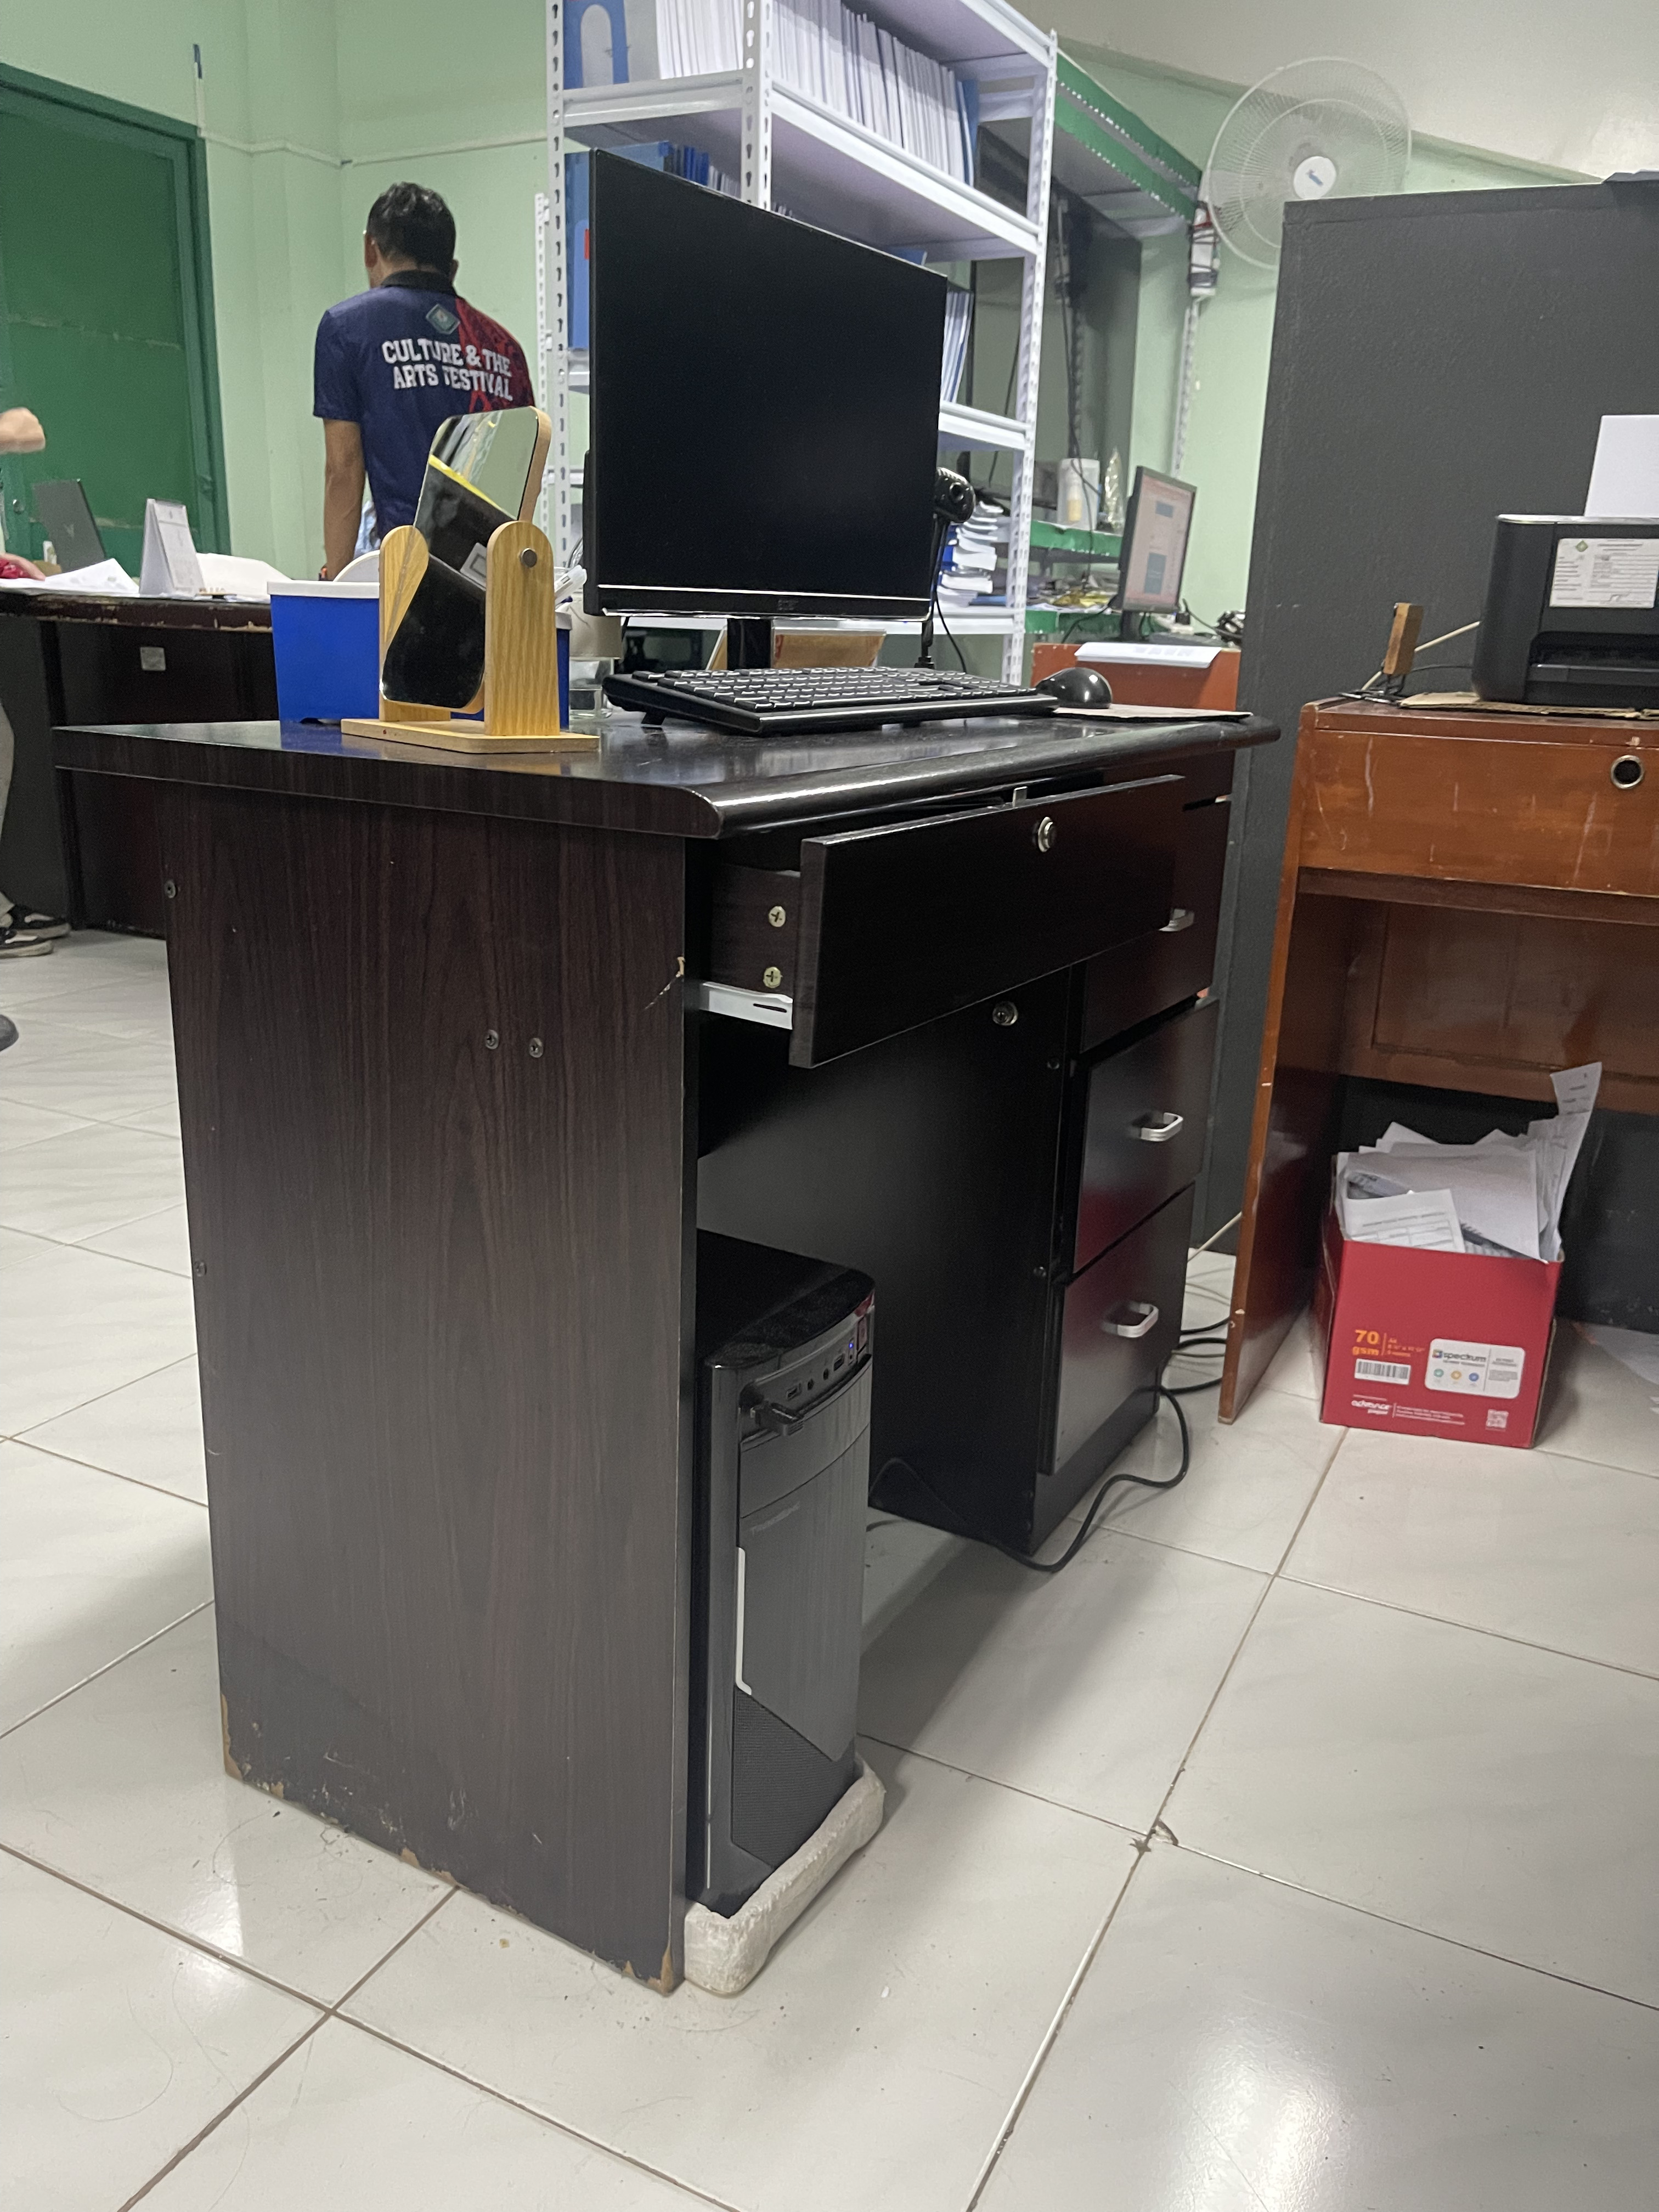table1: (49, 624, 1316, 2013)
